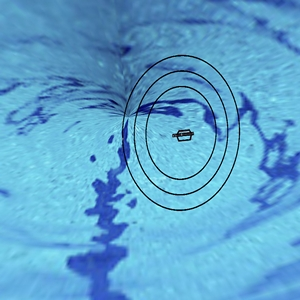circle: (100, 45, 246, 215)
submarine: (164, 122, 198, 146)
